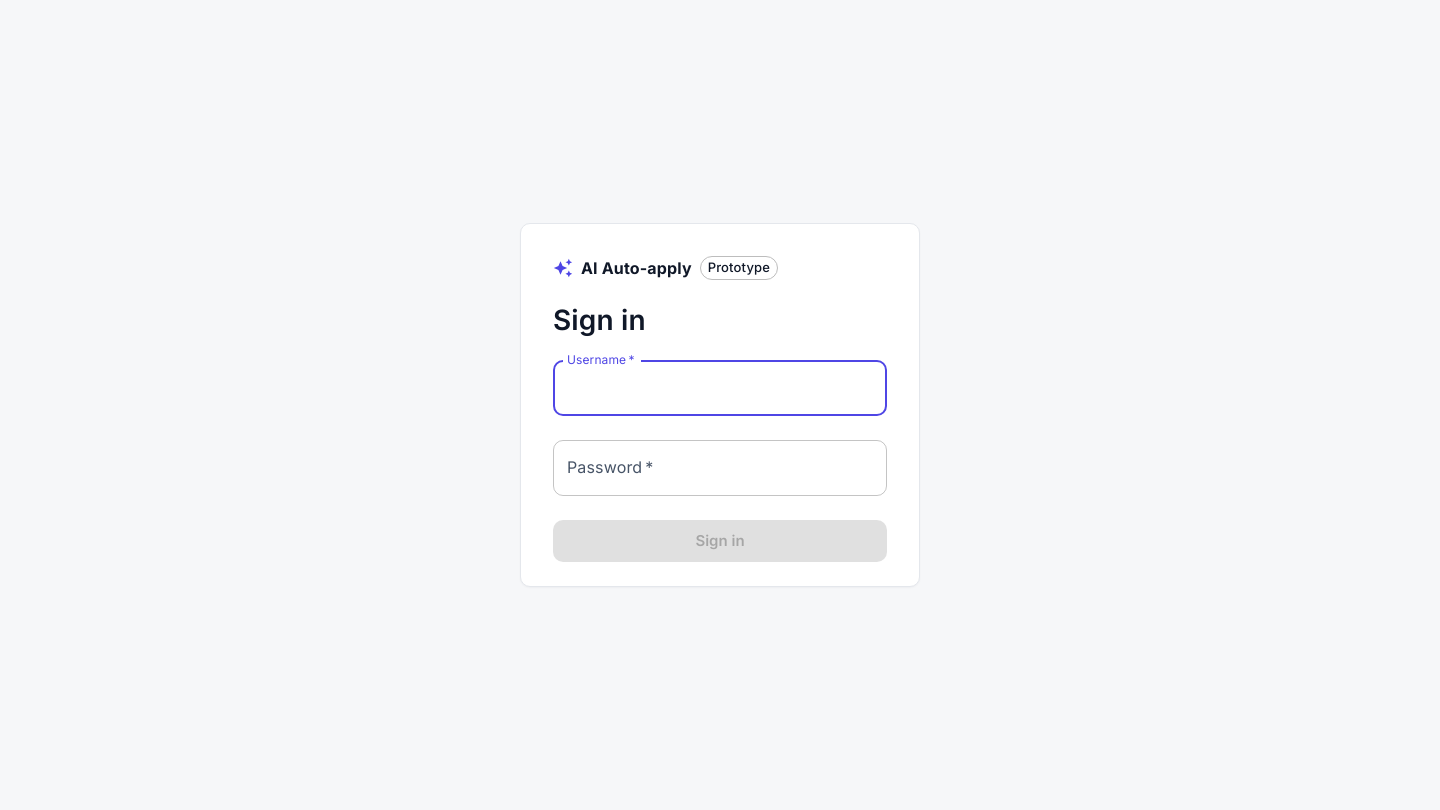
login gate › signs in with the credentials and returns to the page asked for
Step 1. Type "jobseeker" into the field labelled "Username *" → (720, 388), box [553,360,887,416]
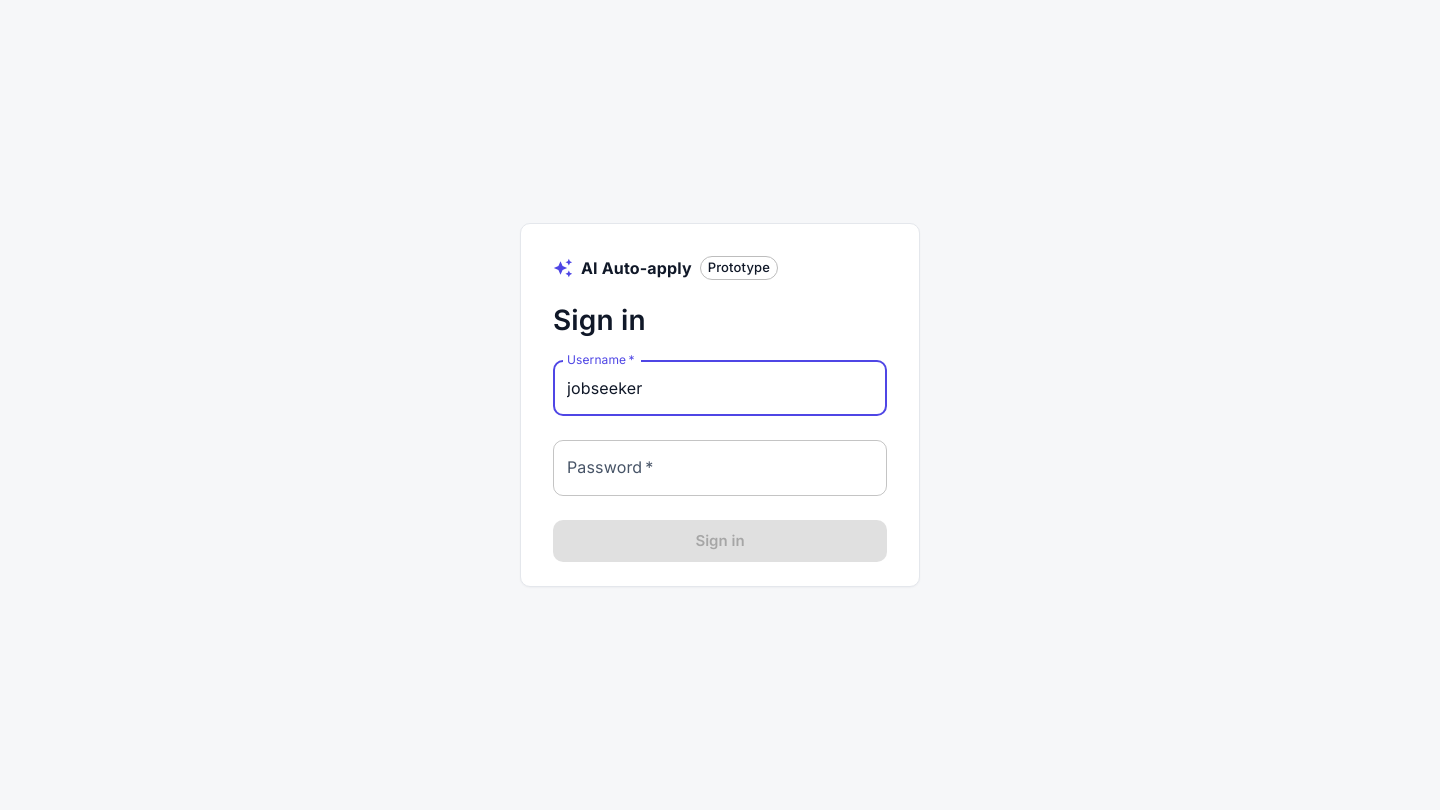
Step 2. Type "correct" into the password field labelled "Password *" → (720, 468), box [553,440,887,496]
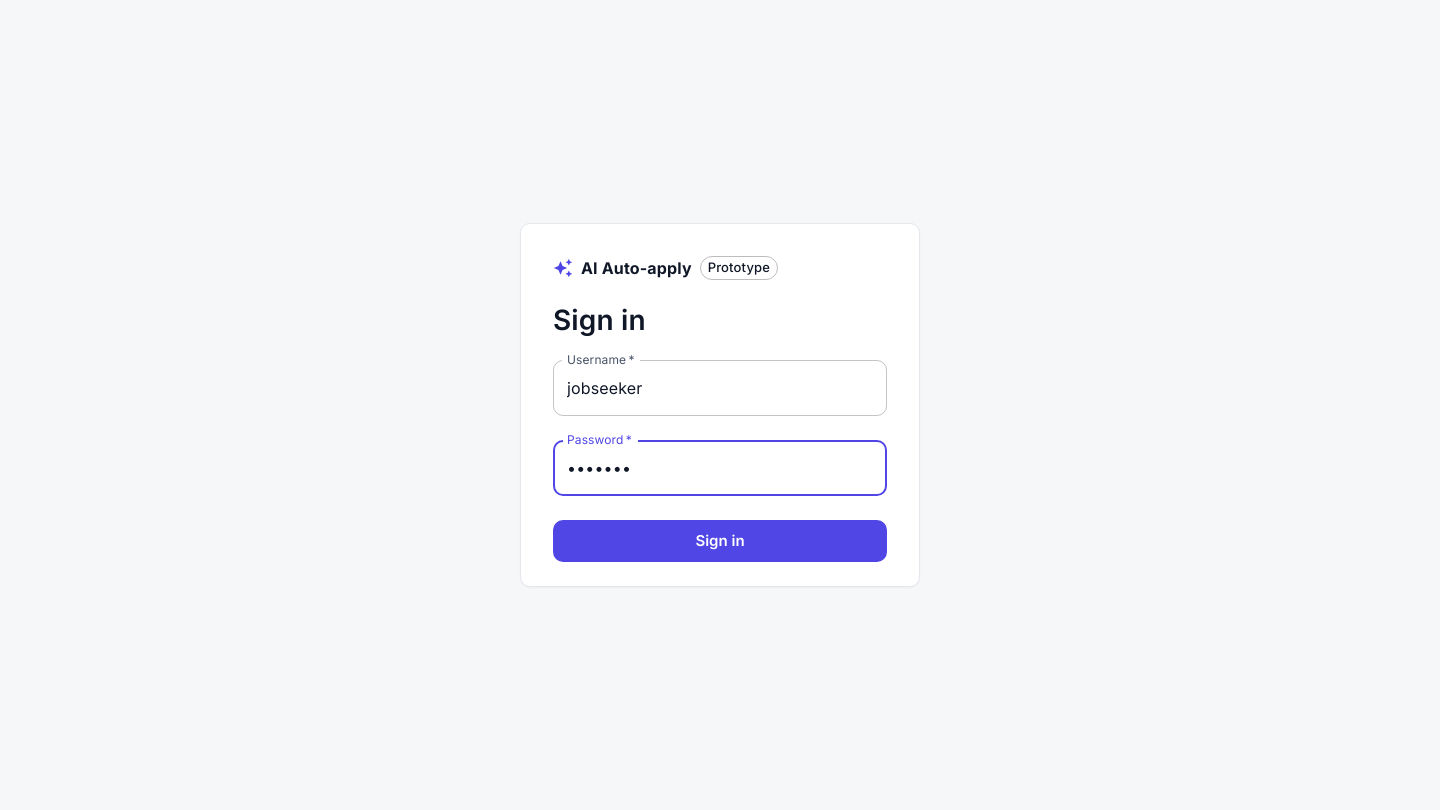
Step 3. Click the button "Sign in" → (720, 541), box [553,520,887,562]
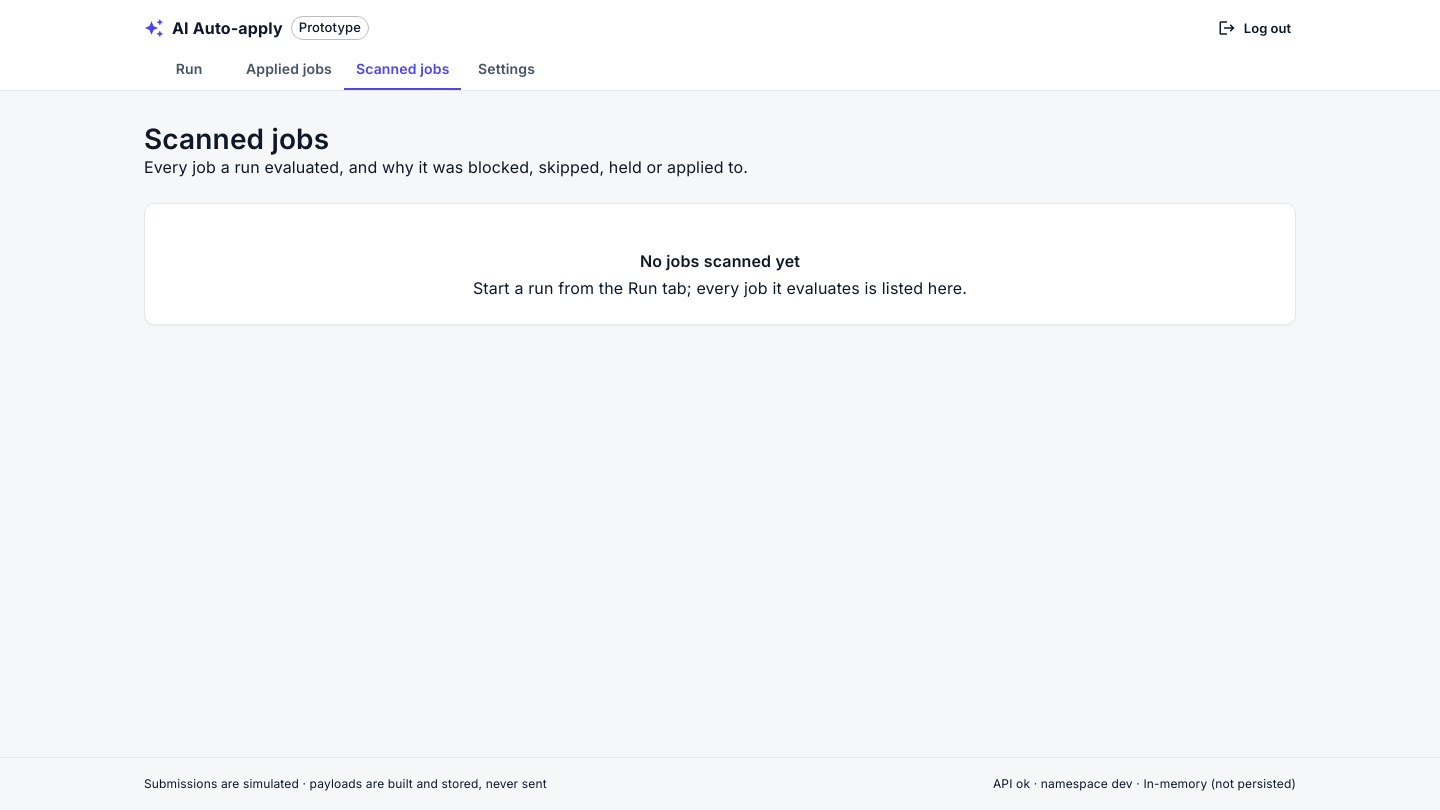
Now the heading "Scanned jobs" is shown, box [144,122,329,156]
